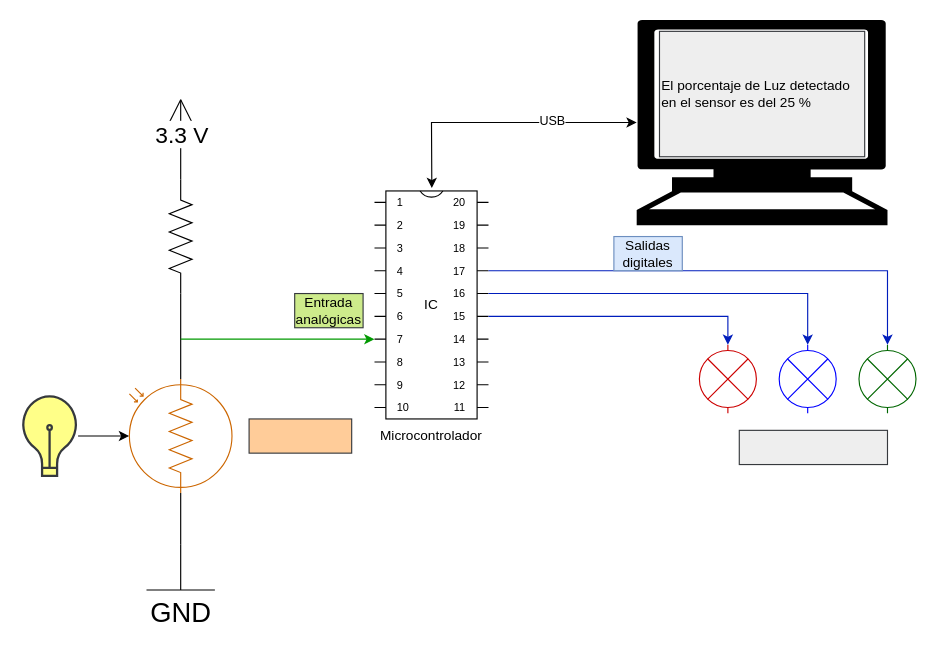
This 936x650 diagram has some shape labels left out. The shapes that lost their labels are listed below. From the top down, each one's centre as x and y in pixels, then its label:
the point at 180,236: 10 K
the point at 300,435: Fotoresistencia
the point at 812,447: Tablero de monitoreo
